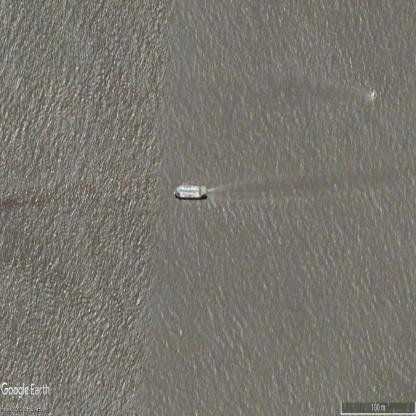ship: (173, 182, 208, 202)
